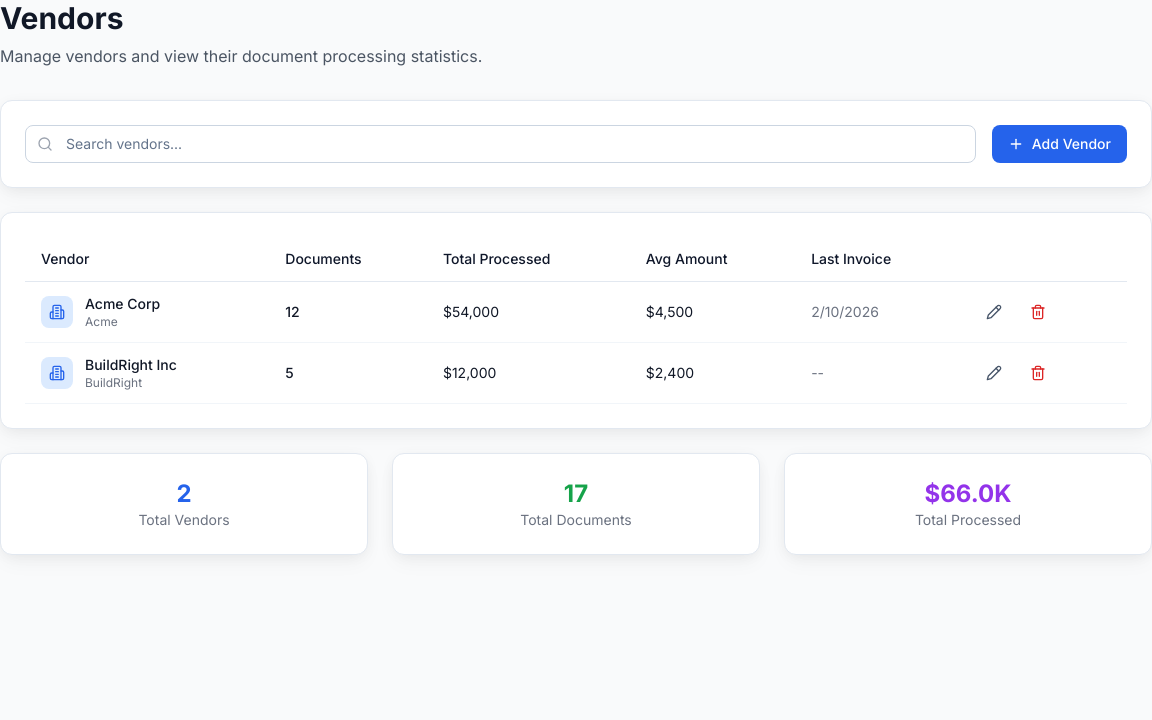
Test: Vendors › opens add vendor modal when clicking Add Vendor
The image size is (1152, 720).
Click the button "Add Vendor": x=1059, y=144 [992,125,1127,163]
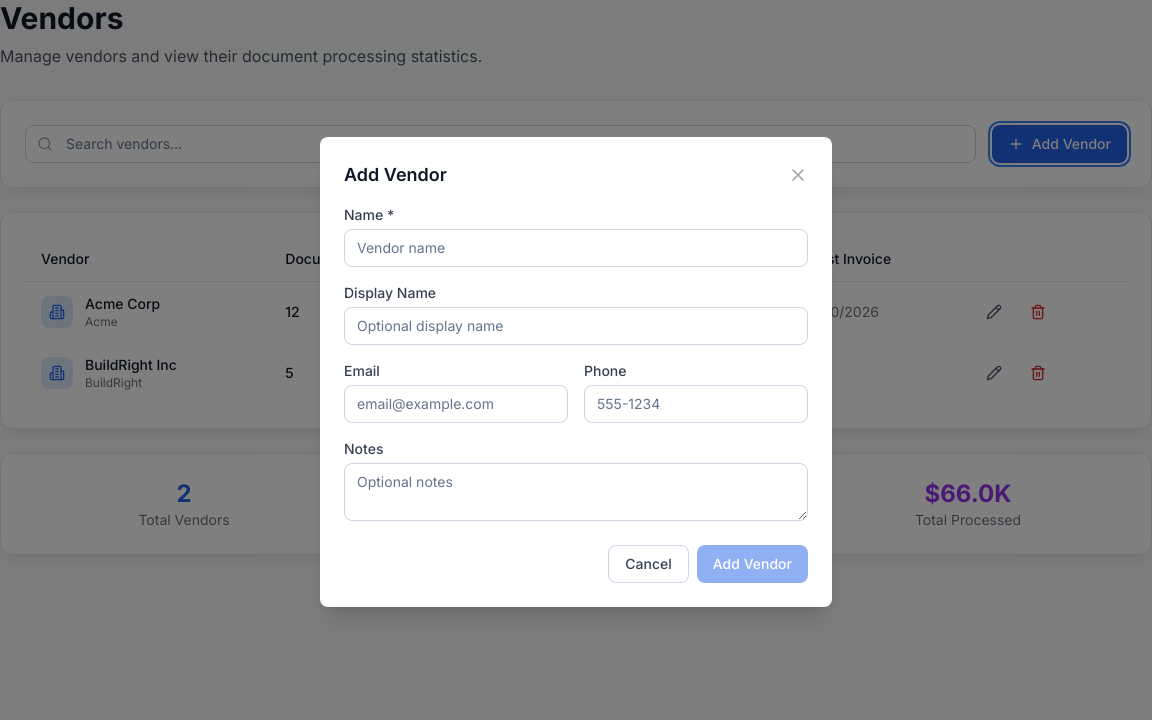
Expected: the dialog "Add Vendor" is shown
Expected: the field labelled "Name *" is shown, [344,229,808,267]
